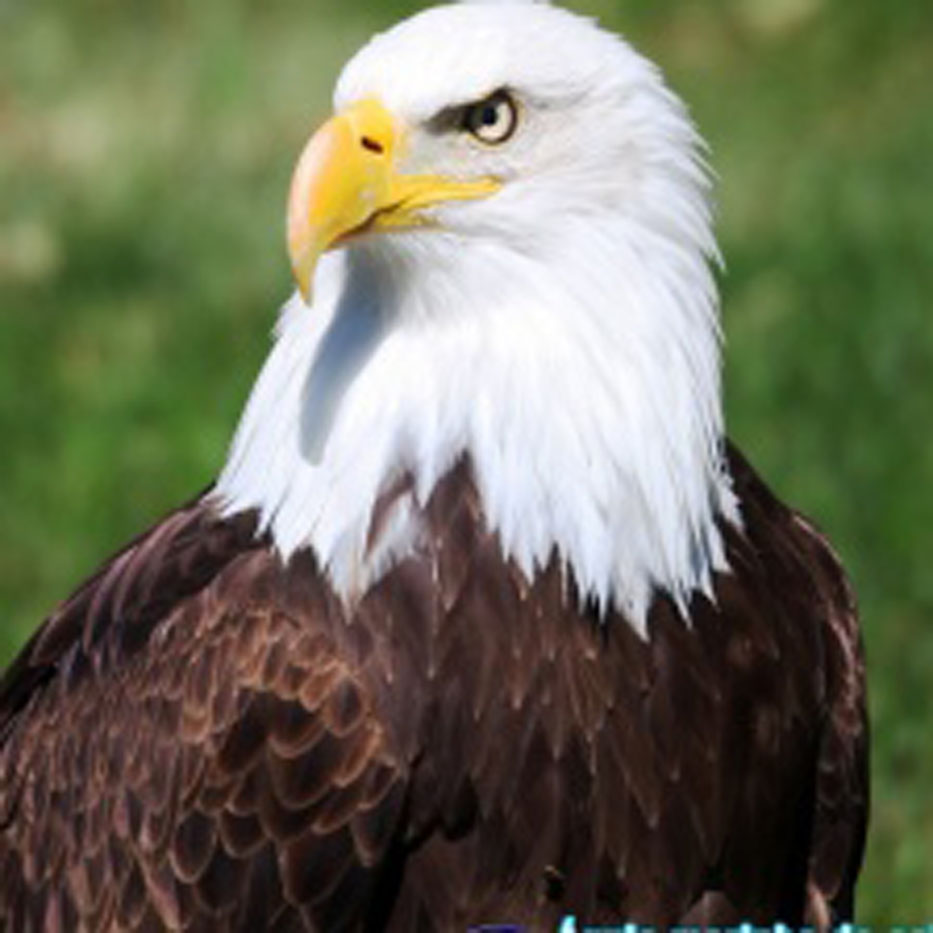Pengoyak Daging: (242, 111, 431, 326)
